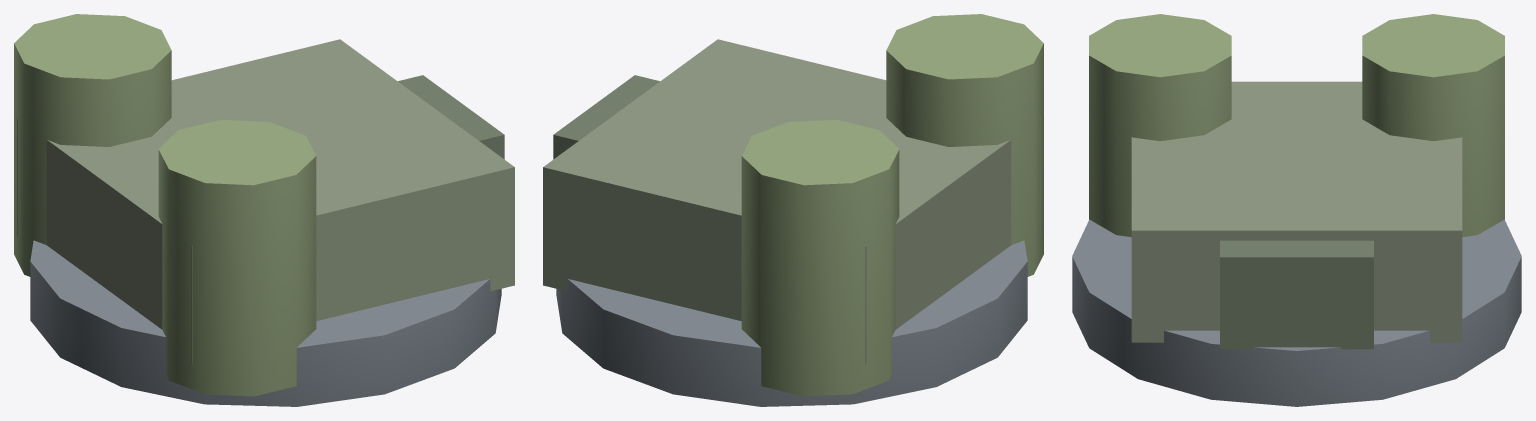
The model's file is t_gas.glb.
3 views of the same model, side by side, from view 1: azimuth 30°, elevation 25°; view 2: azimuth 150°, elevation 25°; view 3: azimuth 270°, elevation 25° (orthographic). The views are drawn at different scales.
Parts seen in each view (by area): view 1: t_gas; view 2: t_gas; view 3: t_gas.
Part boxes in pixels (box(x1,y1,x2,y2)): t_gas: box(14, 14, 514, 406); t_gas: box(543, 14, 1043, 406); t_gas: box(1072, 14, 1521, 406).
Bounding box in the file's own units: 2.04 × 1.1 × 2.04.
